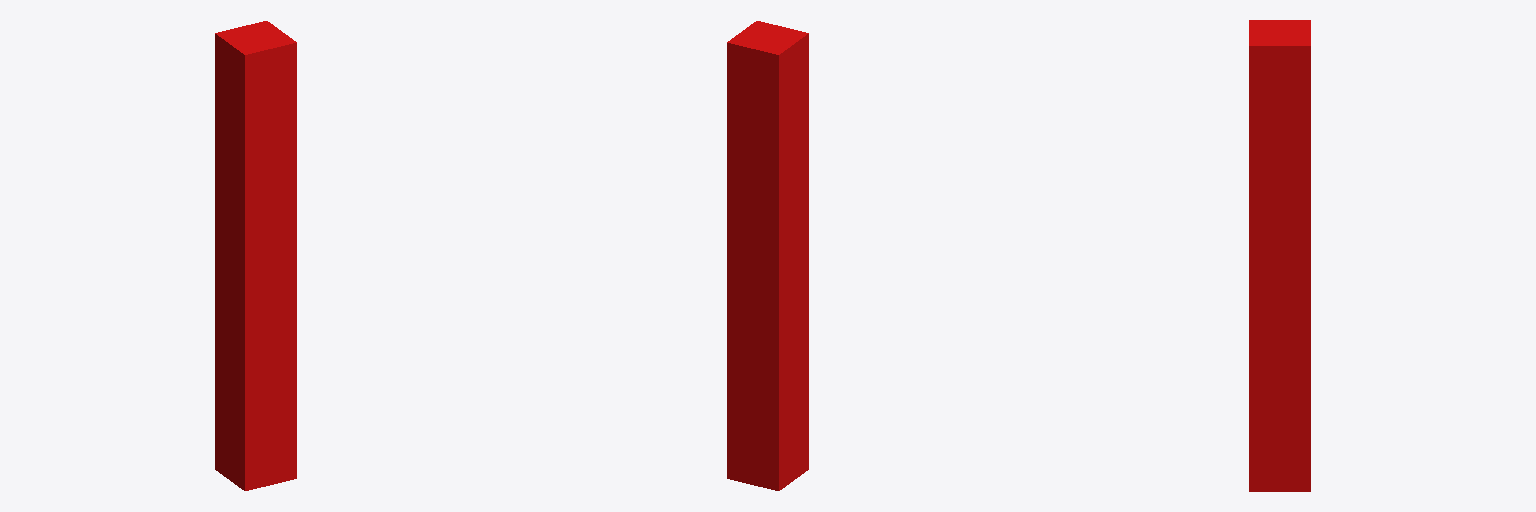
robot.urdf — scene:
<?xml version="1.0"?>
<!-- Things around the arm, kept out of camera_arm_v2.urdf so RViz can show or hide
     them separately (the Camera View hides the arm but still shows these).
     Rooted at base_link, the same frame the arm's robot_state_publisher publishes. -->
<robot name="scene">
  <link name="base_link"/>

  <!-- Pillar in front of the camera (at the zero pose the camera looks along +y of base_link) -->
  <link name="pillar">
    <visual>
      <geometry><box size="0.05 0.05 0.4"/></geometry>
      <material name="pillar_mat"><color rgba="0.9 0.1 0.1 1"/></material>
    </visual>
  </link>
  <joint name="pillar_joint" type="fixed">
    <parent link="base_link"/>
    <child link="pillar"/>
    <origin xyz="0 0.6 0.2" rpy="0 0 0"/>
  </joint>
</robot>

--- Render facts (derived) ---
The picture shows the robot from 3 angles, left to right: view 1: azimuth 30°, elevation 25°; view 2: azimuth 150°, elevation 25°; view 3: azimuth 270°, elevation 25°; orthographic projection.
Model scene with 2 links and 1 joints (1 fixed), rooted at base_link, posed all joints at 0.
Links seen in each view (by area): view 1: pillar; view 2: pillar; view 3: pillar.
Link boxes in pixels (left/top/right/bottom): pillar: left=215, top=21, right=296, bottom=490; pillar: left=727, top=21, right=808, bottom=490; pillar: left=1249, top=20, right=1310, bottom=491.
Bounding box of the posed robot: 0.05 × 0.05 × 0.4 m (x, y, z).
Geometry: primitives only (box / cylinder / sphere), no mesh files.
